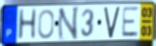3: (80, 8, 96, 39)
E: (120, 6, 139, 39)
H: (16, 8, 38, 42)
N: (56, 6, 80, 42)
O: (37, 8, 56, 40)
V: (103, 6, 121, 40)
